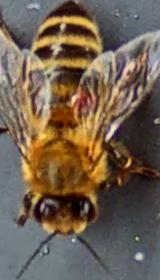varroa_mite: (60, 85, 126, 124)
